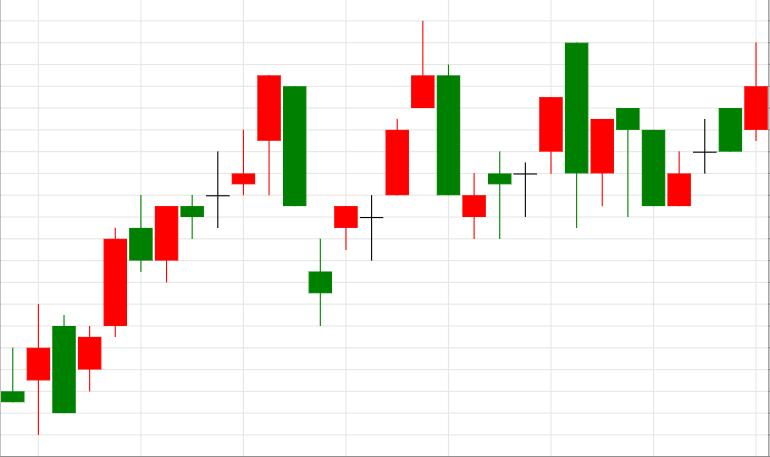bearish_engulfing_fall: (463, 43, 589, 240)
shooting_star_fall: (309, 20, 434, 326)
